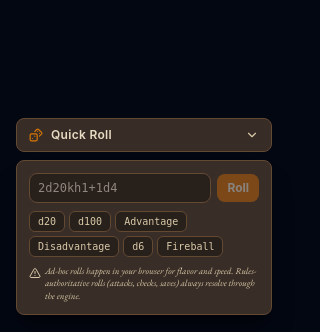
DiceRollerPanel › labels every result with the local-roll badge and never shows engine attribution
Step 1. Click the button "Fireball" → (190, 246), box [157, 236, 224, 257]
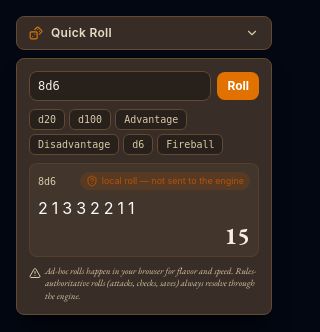
Now the element with test id "local-roll-badge" is shown, box [80, 172, 250, 190]
Now the element with test id "local-roll-badge" reads "local roll — not sent to the engine", box [102, 175, 244, 186]
